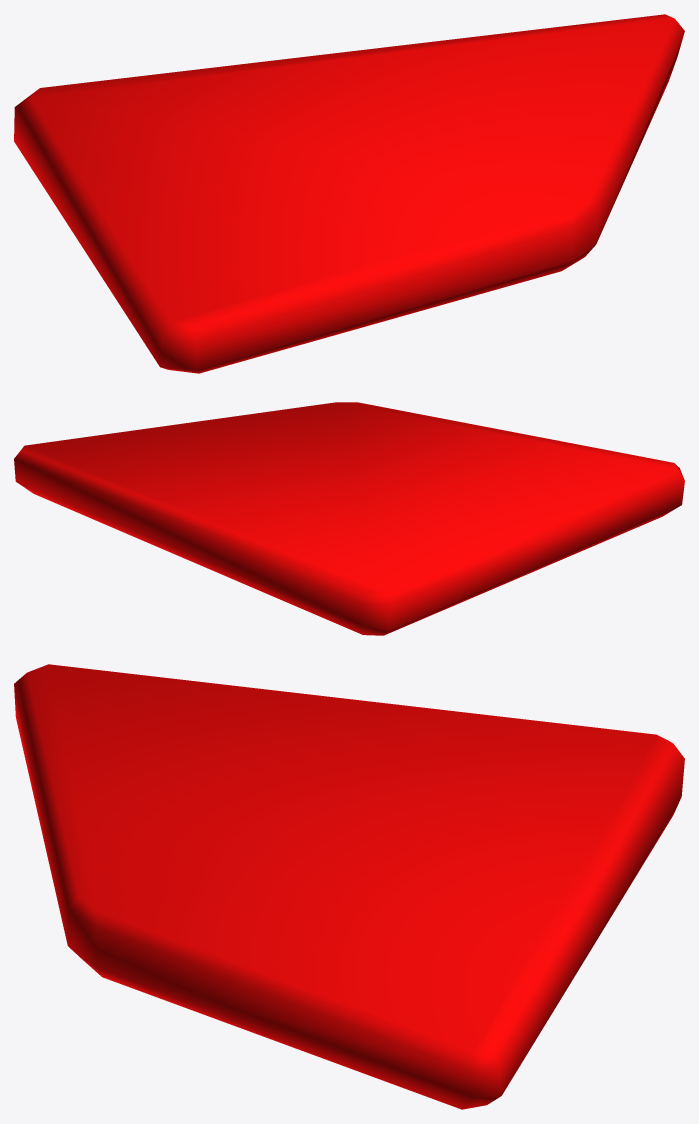
The model's file is dalle3_lowPoly.fbx.
3 views of the same model, one above another, from view 1: azimuth 30°, elevation 25°; view 2: azimuth 150°, elevation 25°; view 3: azimuth 270°, elevation 25° (orthographic). The views are drawn at different scales.
Visible parts, largest first — view 1: BSurfaceMesh; view 2: BSurfaceMesh; view 3: BSurfaceMesh.
Boxes of the visible parts, <box> form: BSurfaceMesh: <box>14,14,684,373</box>; BSurfaceMesh: <box>14,402,684,635</box>; BSurfaceMesh: <box>14,664,684,1109</box>.
Size of the model in its own units: 171 by 13.68 by 123.
